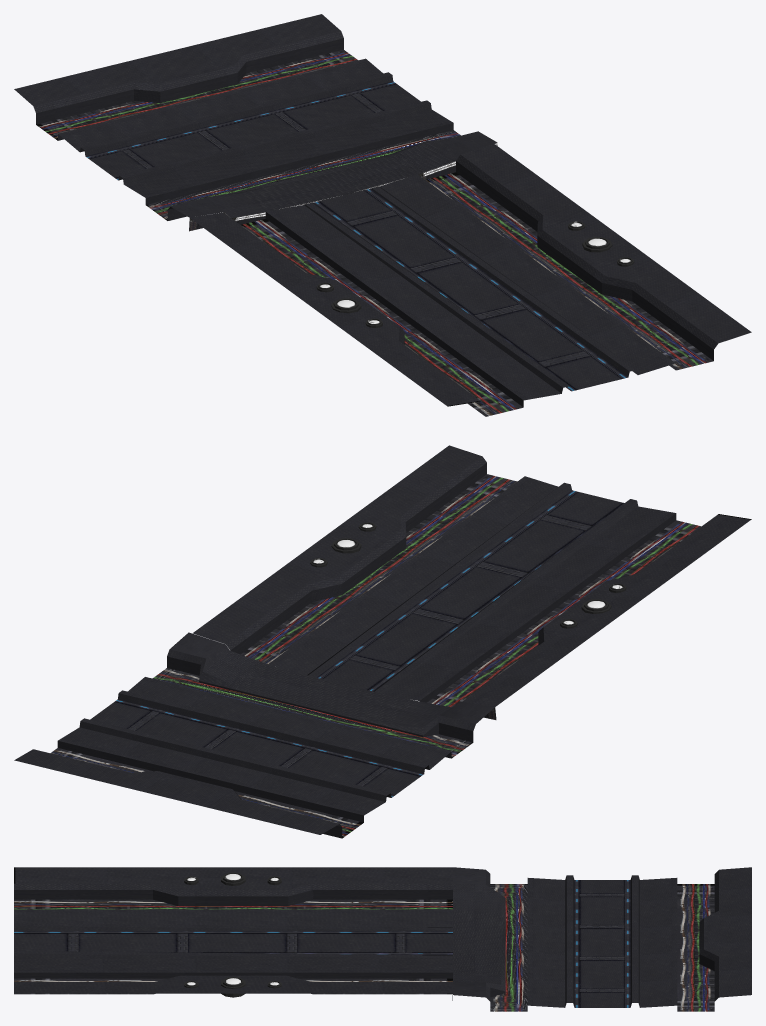
Rendered from testkorridor.fbx.
3 renders of one model, top to bottom at view 1: azimuth 30°, elevation 25°; view 2: azimuth 150°, elevation 25°; view 3: azimuth 270°, elevation 25°, orthographic. The views are drawn at different scales.
Parts seen in each view (by area): view 1: polySurface935, polySurface943; view 2: polySurface935, polySurface943; view 3: polySurface935, polySurface943.
Part boxes in pixels (box(x1,y1,x2,y2)): polySurface935: box(190, 143, 751, 416); polySurface943: box(14, 14, 497, 231); polySurface935: box(193, 445, 751, 707); polySurface943: box(14, 632, 496, 838); polySurface935: box(14, 867, 452, 997); polySurface943: box(452, 867, 751, 1011).
Bounding box in the file's own units: 33.05 × 3.21 × 80.12.
